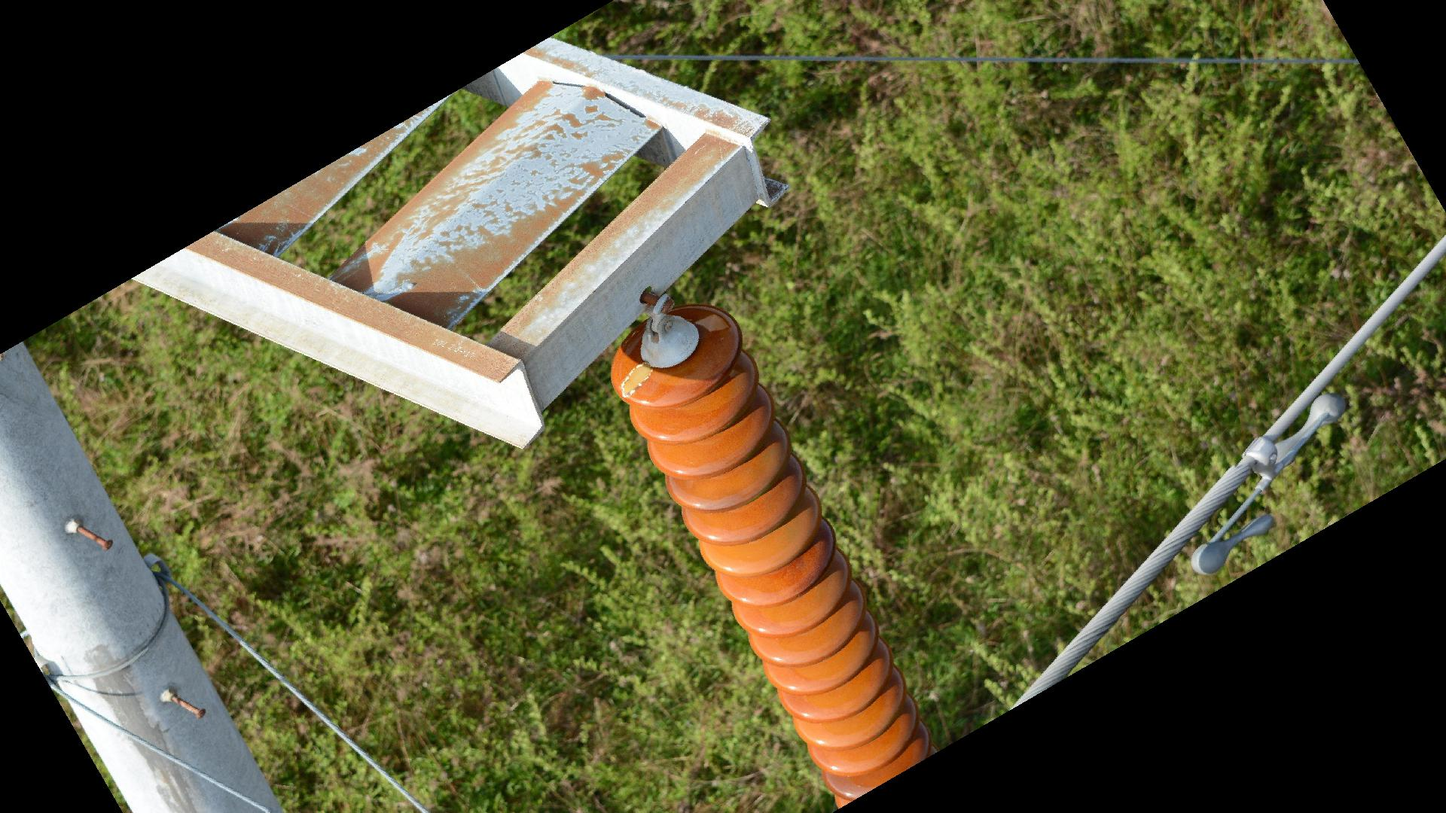insulator: (605, 300, 938, 813)
insulator_flashover: (615, 359, 655, 402)
